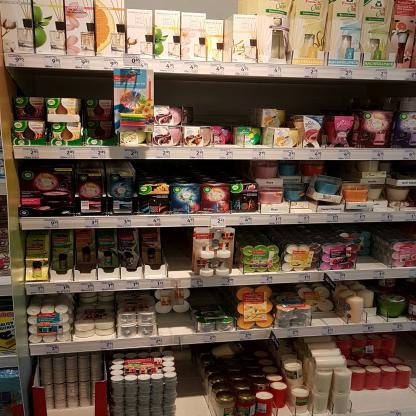Void: (262, 78, 386, 109), (194, 78, 255, 122), (15, 71, 108, 97), (147, 162, 248, 180), (177, 366, 207, 416), (155, 300, 192, 333), (358, 226, 384, 265), (171, 229, 192, 277), (159, 76, 185, 106)
